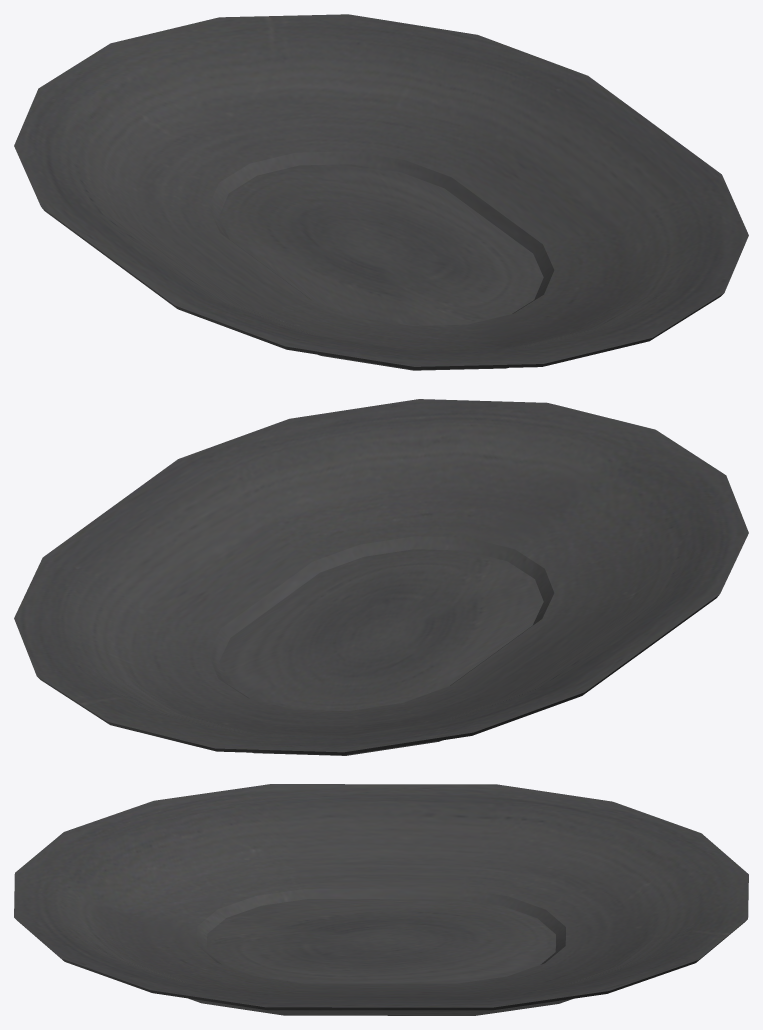
The model's file is bowl-9.FBX.
3 views of the same model, one above another, from view 1: azimuth 30°, elevation 25°; view 2: azimuth 150°, elevation 25°; view 3: azimuth 270°, elevation 25° (orthographic). The views are drawn at different scales.
Visible parts, largest first — view 1: bowl-9_LOD0; view 2: bowl-9_LOD0; view 3: bowl-9_LOD0.
Boxes of the visible parts, <box> form: bowl-9_LOD0: <box>14,14,748,370</box>; bowl-9_LOD0: <box>14,399,748,755</box>; bowl-9_LOD0: <box>14,784,748,1015</box>.
Size of what is drawn, in the model's own units: 24.92 by 2.79 by 34.61.
